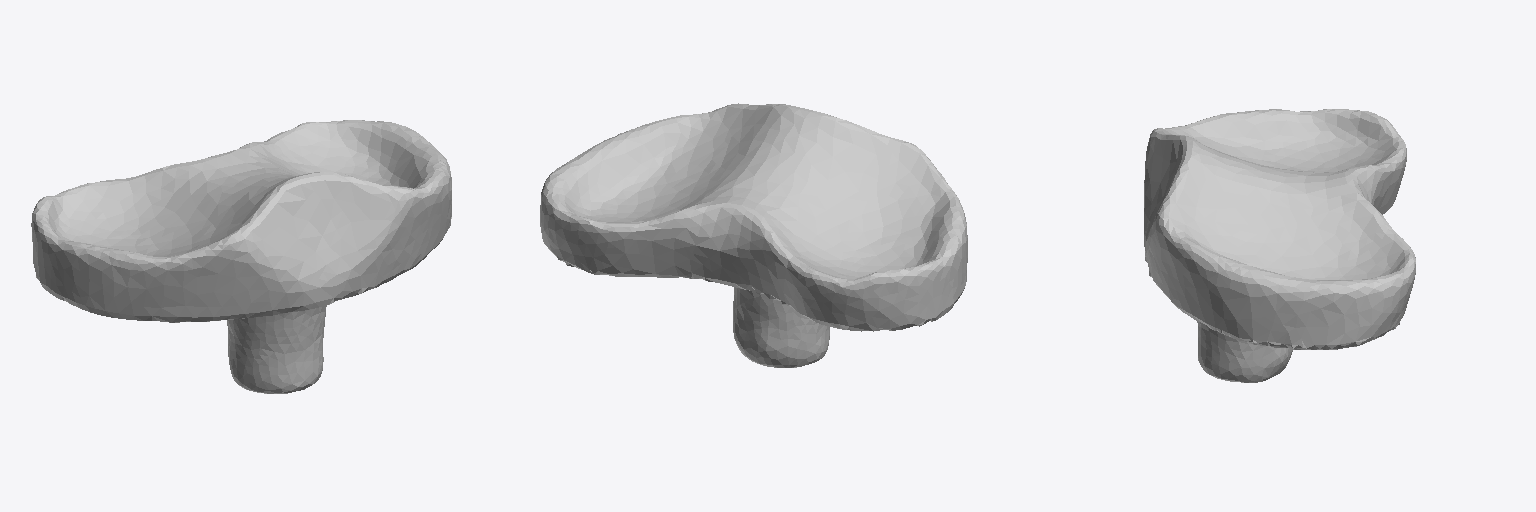
Rendered from ProtesiMediaNonSistemata.obj.
3 views of the same model, side by side, from view 1: azimuth 30°, elevation 25°; view 2: azimuth 150°, elevation 25°; view 3: azimuth 270°, elevation 25° (orthographic).
Visible parts, largest first — view 1: Knee_Prosthesis_2_Knee_Prosthesis_2.002; view 2: Knee_Prosthesis_2_Knee_Prosthesis_2.002; view 3: Knee_Prosthesis_2_Knee_Prosthesis_2.002.
Boxes of the visible parts, box(x1,y1,x2,y2) form: Knee_Prosthesis_2_Knee_Prosthesis_2.002: box(31, 120, 451, 393); Knee_Prosthesis_2_Knee_Prosthesis_2.002: box(540, 103, 967, 367); Knee_Prosthesis_2_Knee_Prosthesis_2.002: box(1144, 109, 1415, 382).
Size of the model in its own units: 30.66 by 16.97 by 18.79.